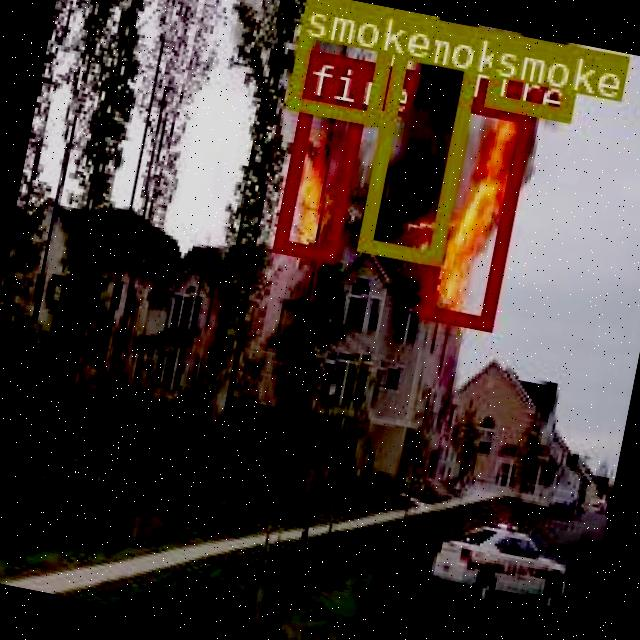fire: (417, 96, 532, 330), (272, 94, 362, 259)
smoke: (355, 10, 483, 263), (284, 0, 397, 123), (482, 29, 580, 120)
